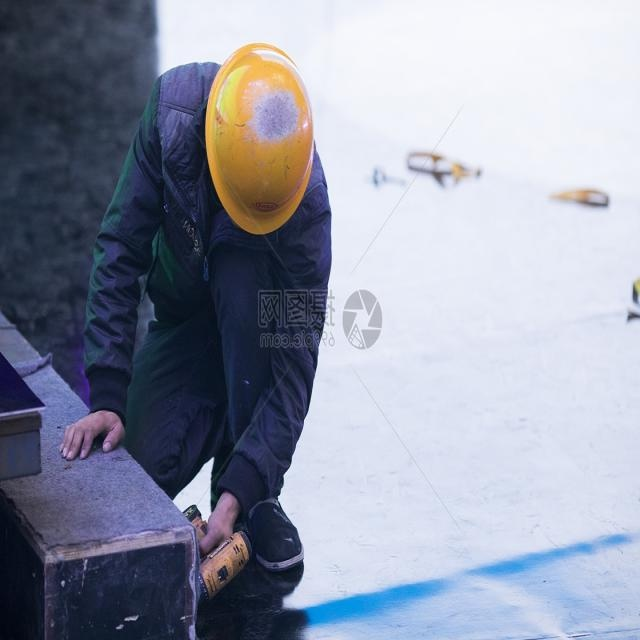Con_Casco: (202, 38, 319, 225)
